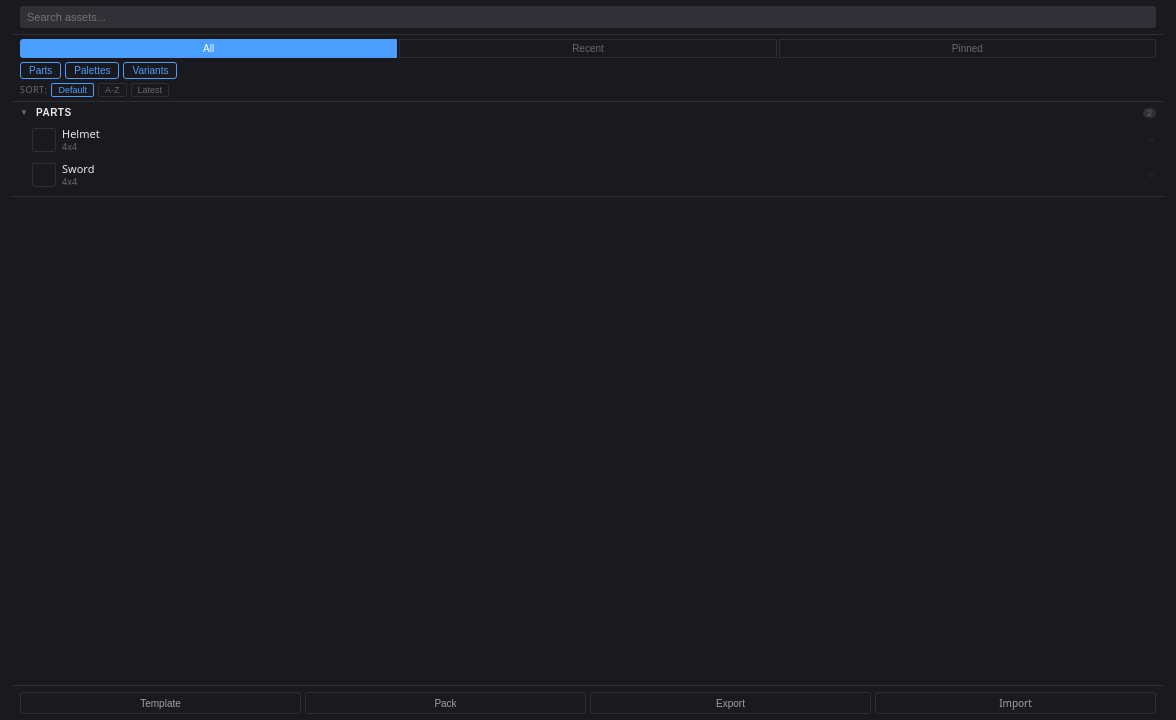
it: LibraryPanel › search filters items by name
In the field with test id "lib-search": (588, 17) [20,6,1156,28], type "helm"
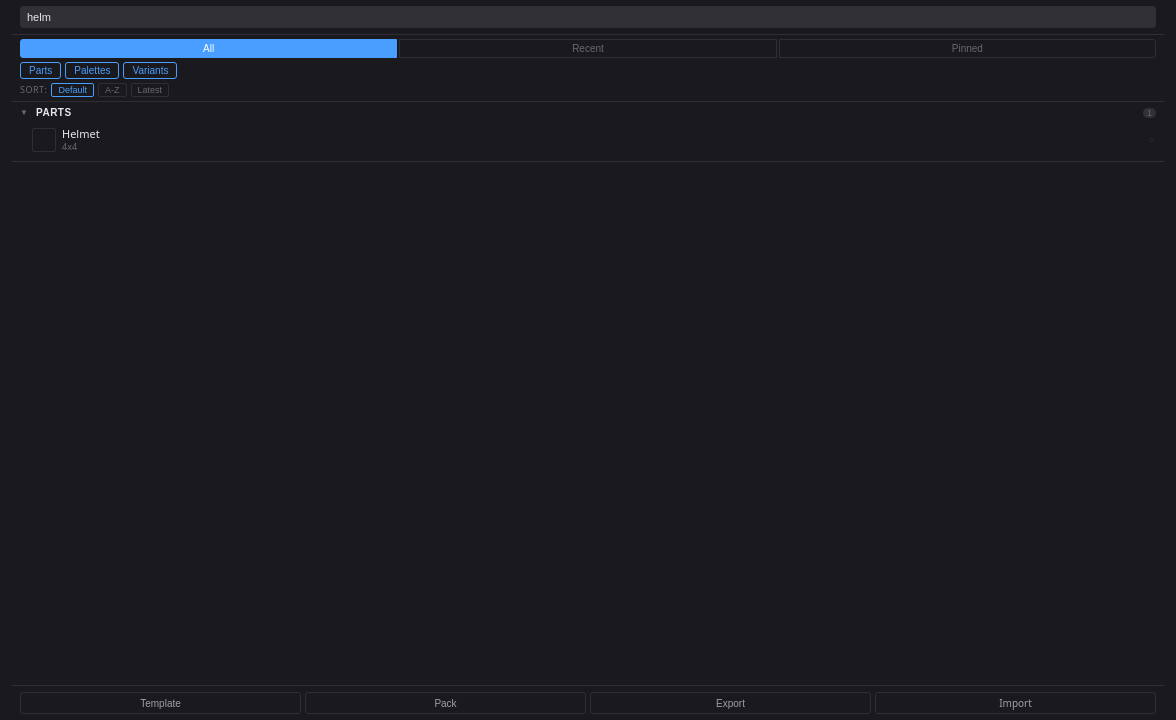
Expected: the element with test id "lib-item-p-helm" is shown, [12,123,1164,157]
Result: the element with test id "lib-item-p-sword" is gone
